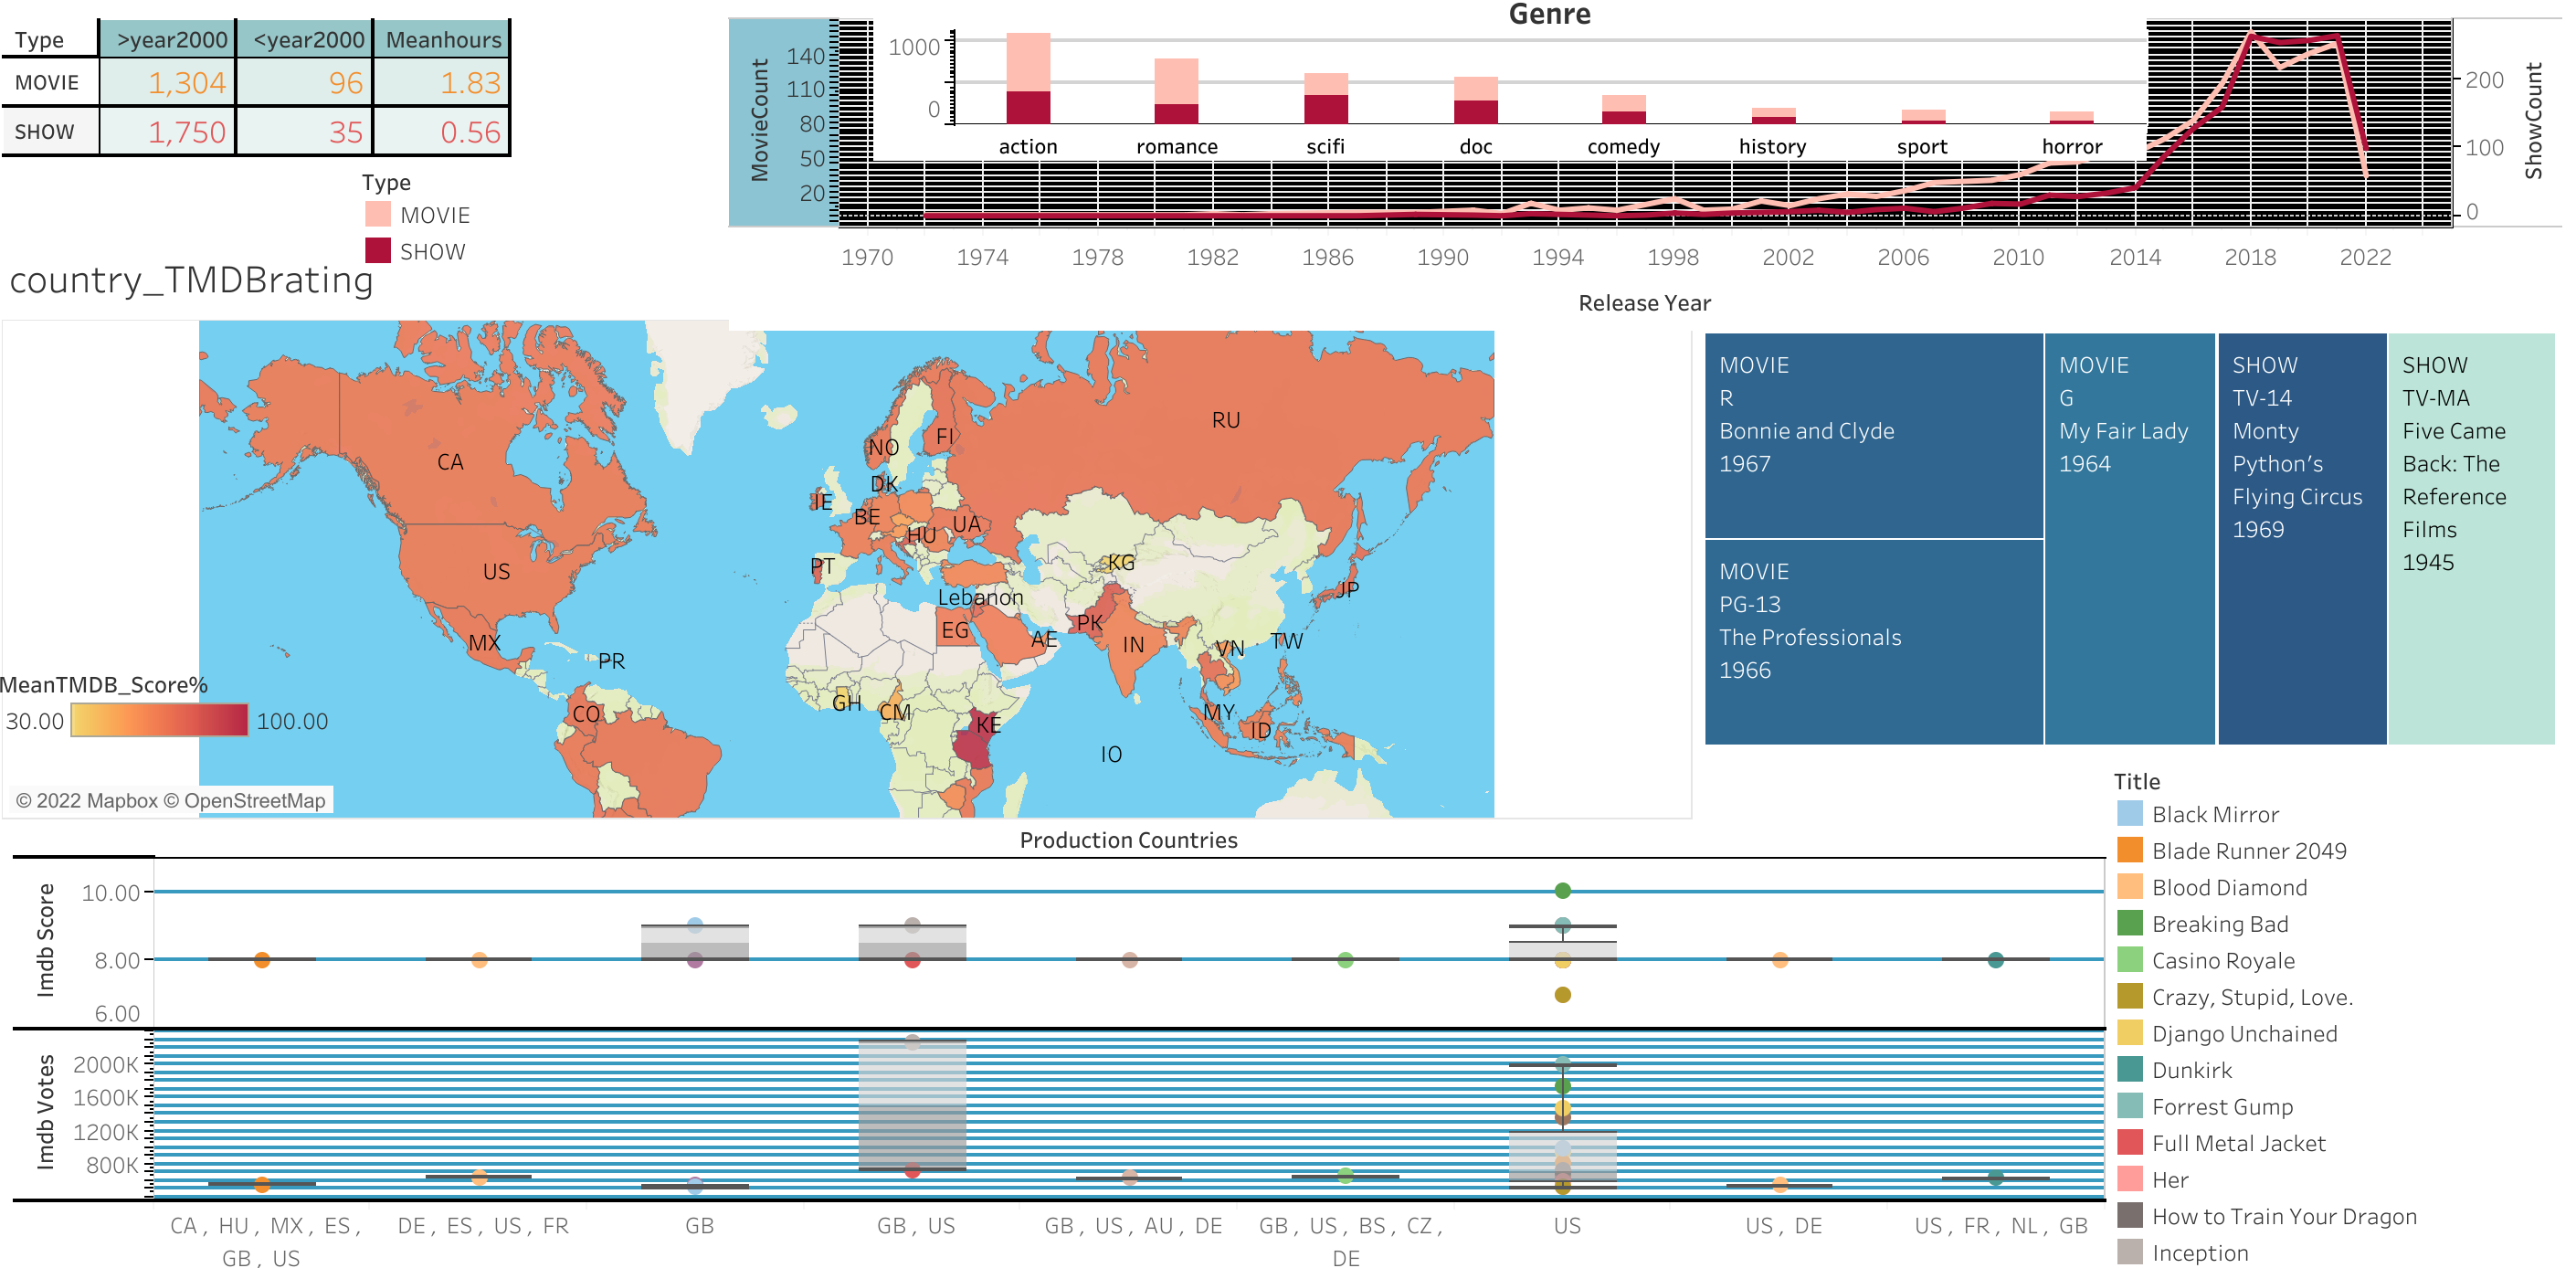

The dashboard page shown, as its layout file describes it:
{"tool":"tableau","page":{"name":"Dashboard 2","canvas":[1000,1000],"units":"permille","ordinal":0},"visuals":[{"type":"worksheet","title":"count_movieshowVStime","mark":"Automatic","rows":["type"],"box":[1,14.6,287.9,125.7]},{"type":"worksheet","title":"movie&showcount_releaseyear","mark":"Automatic","rows":["releasemovie_count","releaseshow_count"],"cols":["release_year"],"box":[282.9,14.6,711.1,247.1]},{"type":"legend","title":"genre_count","param":"[federated.1kqd6de1onu2bu19bdhri1ut0229].[none:type:nk]","box":[139.4,127.2,140.4,84.8]},{"type":"worksheet","title":"country_TMDBrating","mark":"Automatic","box":[1,190.1,656,456.1]},{"type":"worksheet","title":"Oldestyear_Movies&Shows","mark":"Automatic","box":[658,254.4,337,387.4]}]}

Visuals, with their boxes on the dashboard's canvas, which has no fixed pixel size, in thousandths of its width and height (x1, y1, x2, y2). These are canvas units, not pixel positions in the 2576x1268 screenshot, which may show the page scaled, cropped or inside an application window:
"count_movieshowVStime" worksheet: (1,15,289,140)
"movie&showcount_releaseyear" worksheet: (283,15,994,262)
"genre_count" legend: (139,127,280,212)
"country_TMDBrating" worksheet: (1,190,657,646)
"Oldestyear_Movies&Shows" worksheet: (658,254,995,642)
